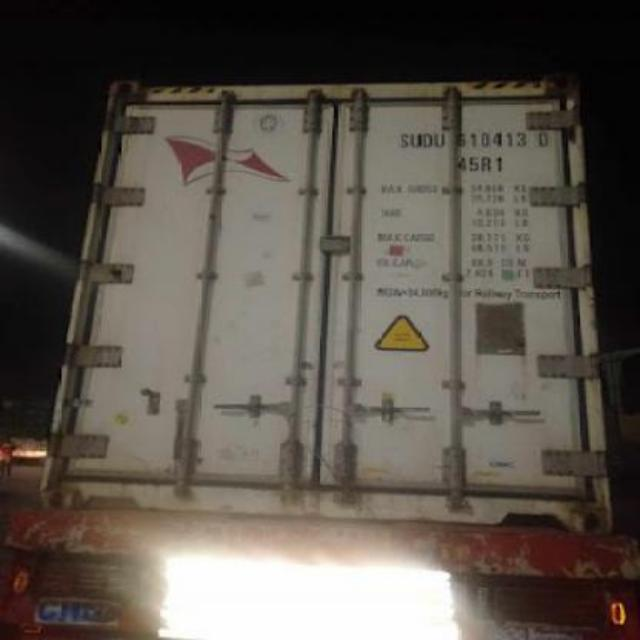0: (536, 130, 550, 146), (480, 128, 490, 148)
1: (468, 128, 480, 148), (504, 130, 516, 146)
3: (516, 132, 528, 146)
4: (491, 128, 504, 148)
6: (454, 130, 468, 146)
D: (421, 132, 434, 148)
S: (396, 132, 409, 150)
U: (410, 132, 422, 148), (434, 132, 446, 148)
